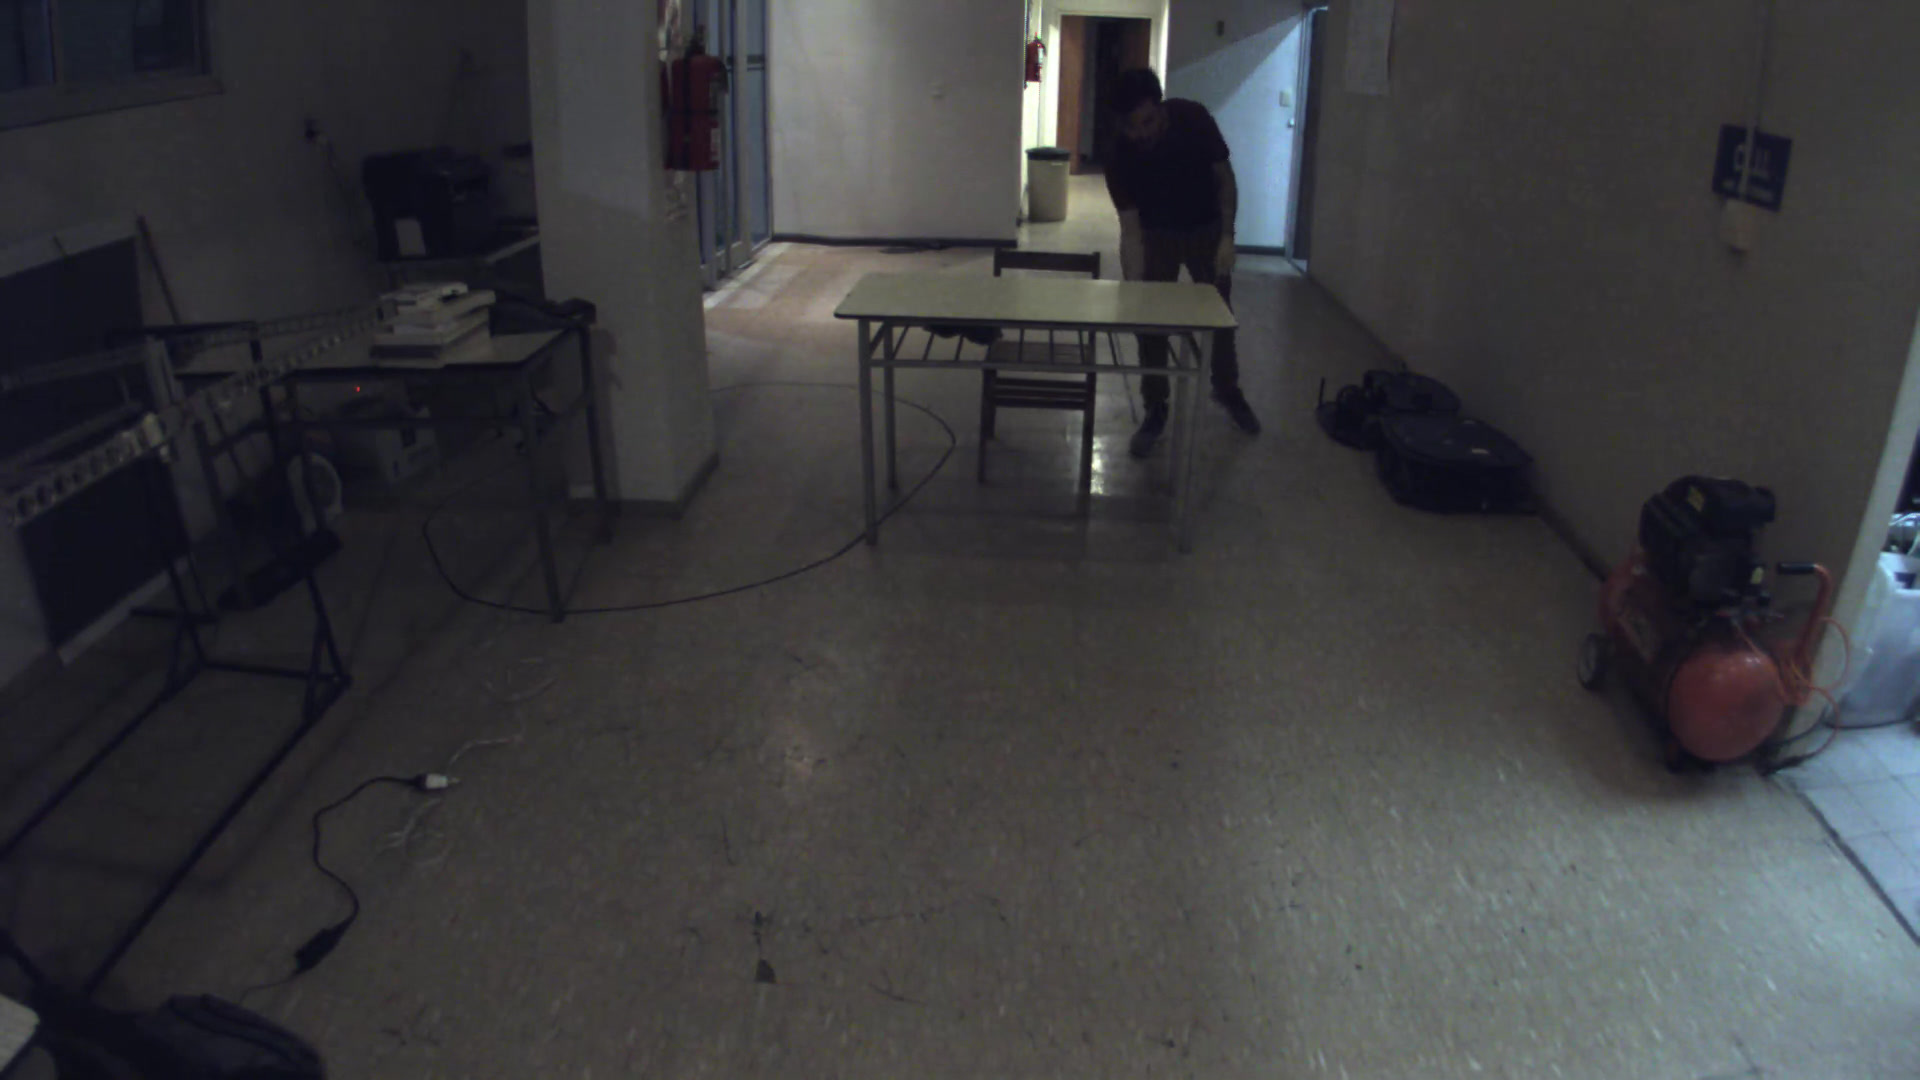hand: (1207, 232, 1251, 278)
